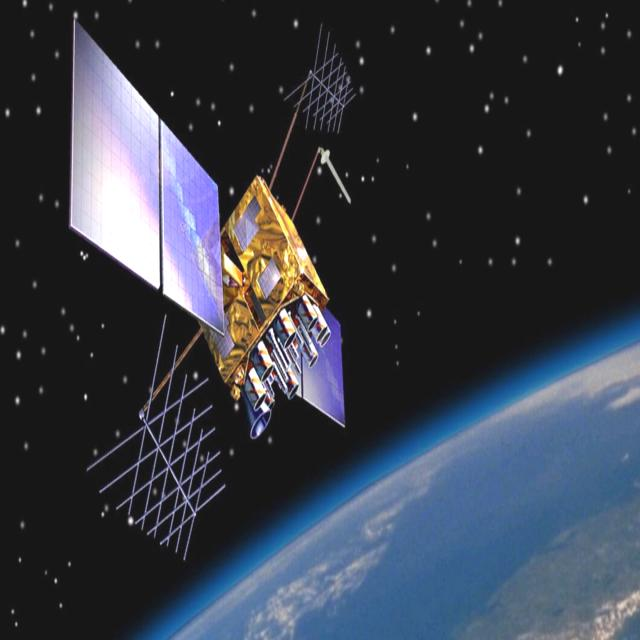satellite: (60, 0, 368, 571)
